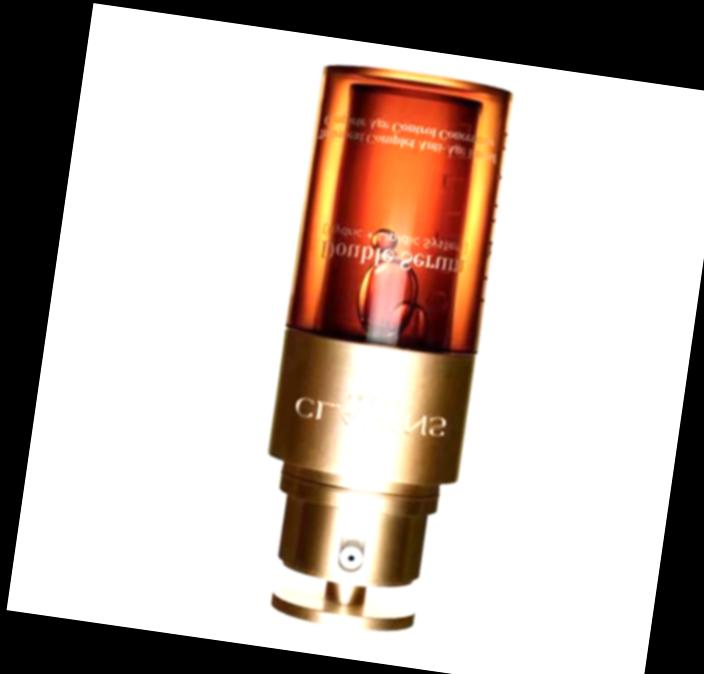cosmetic: (236, 64, 516, 648)
